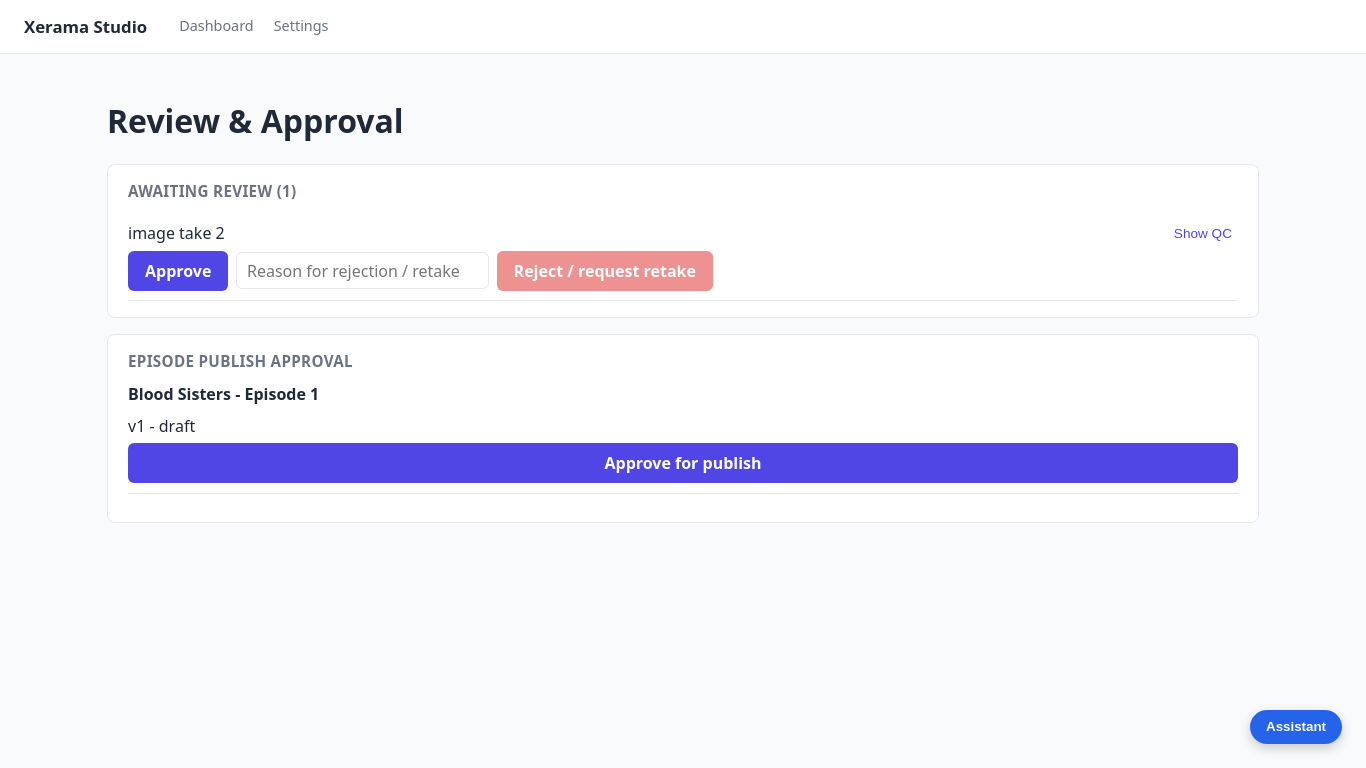
Test case: Review & Approval Studio (MODULE-060) › expands to show QC evidence and a repair recommendation
What coordinates should you click on to do the following:
click the button "Show QC"
I would click on:
 (1203, 234)
Its box is [1168, 225, 1238, 242].
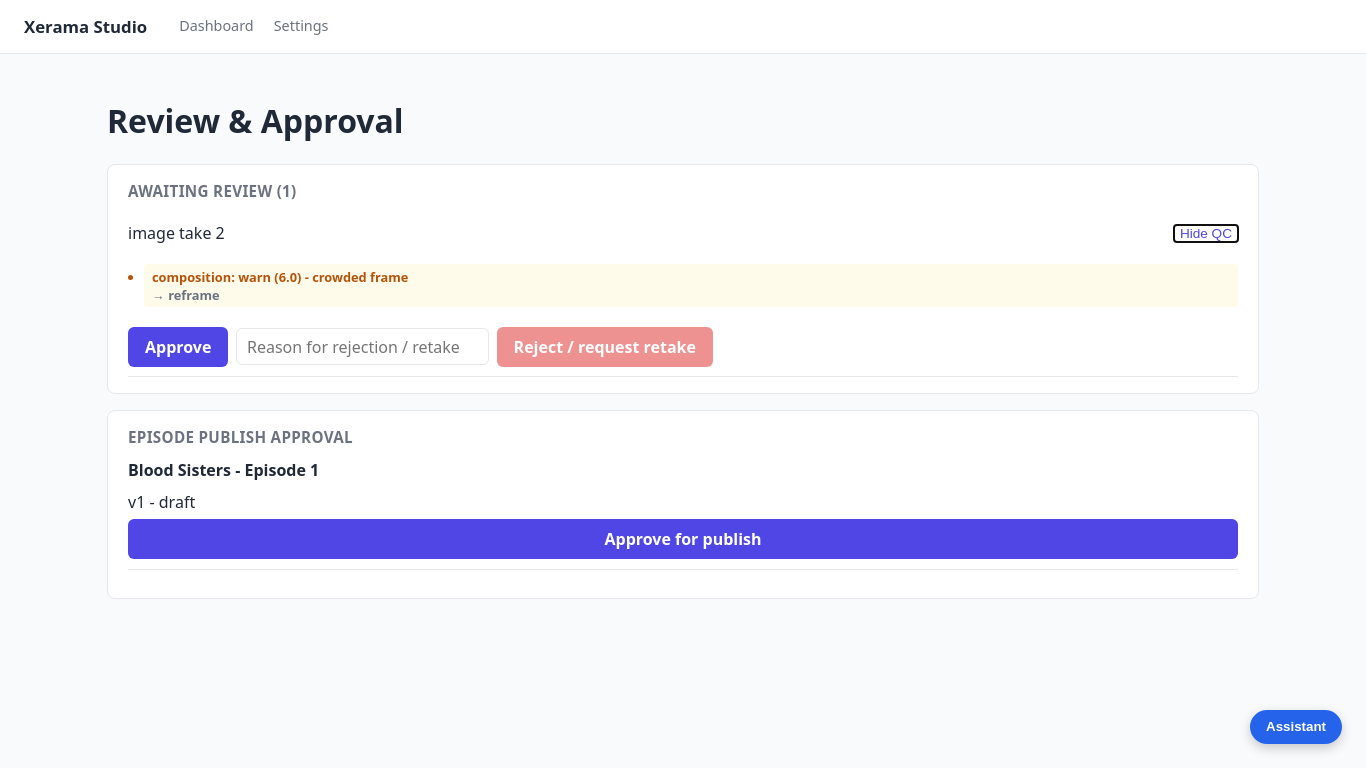
Expected: the list item "composition: warn (6.0) - crowded frame → reframe" is shown, [144, 264, 1238, 307]
Expected: the text "→ reframe" is shown, [152, 286, 220, 304]
